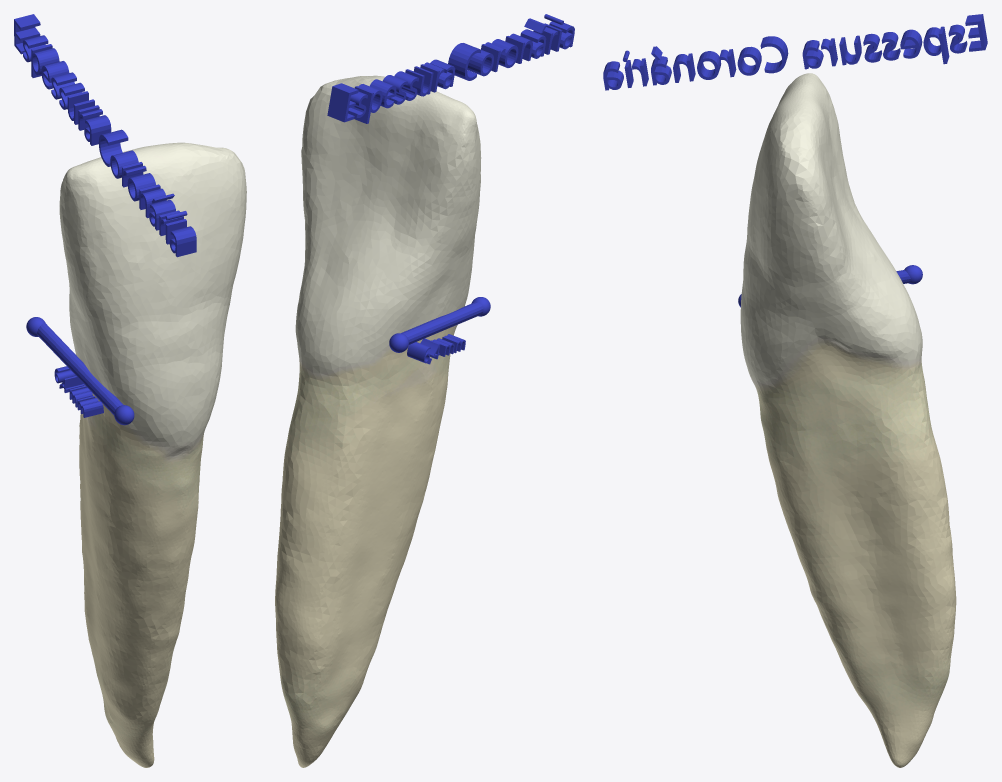
File: 32 - Espessura Coronária.glb
The picture shows the model from 3 angles, left to right: view 1: azimuth 30°, elevation 25°; view 2: azimuth 150°, elevation 25°; view 3: azimuth 270°, elevation 25°; orthographic projection. The views are drawn at different scales.
Parts seen in each view (by area): view 1: 3MFMeshParent_0, 3MFMeshParent_2, 3MFMeshParent_3, 3MFMeshParent_1; view 2: 3MFMeshParent_0, 3MFMeshParent_2, 3MFMeshParent_3, 3MFMeshParent_1; view 3: 3MFMeshParent_0, 3MFMeshParent_2.
Part boxes in pixels (x1,y1,x2,y2): 3MFMeshParent_0: [59, 142, 246, 767]; 3MFMeshParent_2: [14, 14, 196, 257]; 3MFMeshParent_3: [37, 323, 123, 415]; 3MFMeshParent_1: [54, 366, 103, 417]; 3MFMeshParent_0: [275, 75, 481, 767]; 3MFMeshParent_2: [327, 14, 574, 123]; 3MFMeshParent_3: [401, 302, 483, 344]; 3MFMeshParent_1: [407, 334, 465, 364]; 3MFMeshParent_0: [740, 73, 956, 767]; 3MFMeshParent_2: [603, 14, 987, 90].
Size of the model in its own units: 0.1399 by 0.5665 by 0.2771.
Materials: 2 (1 with a texture image).
